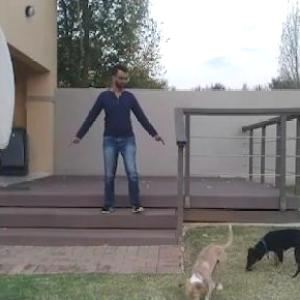land: (76, 67, 160, 226)
